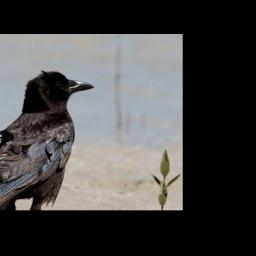Crow: (0, 69, 96, 210)
